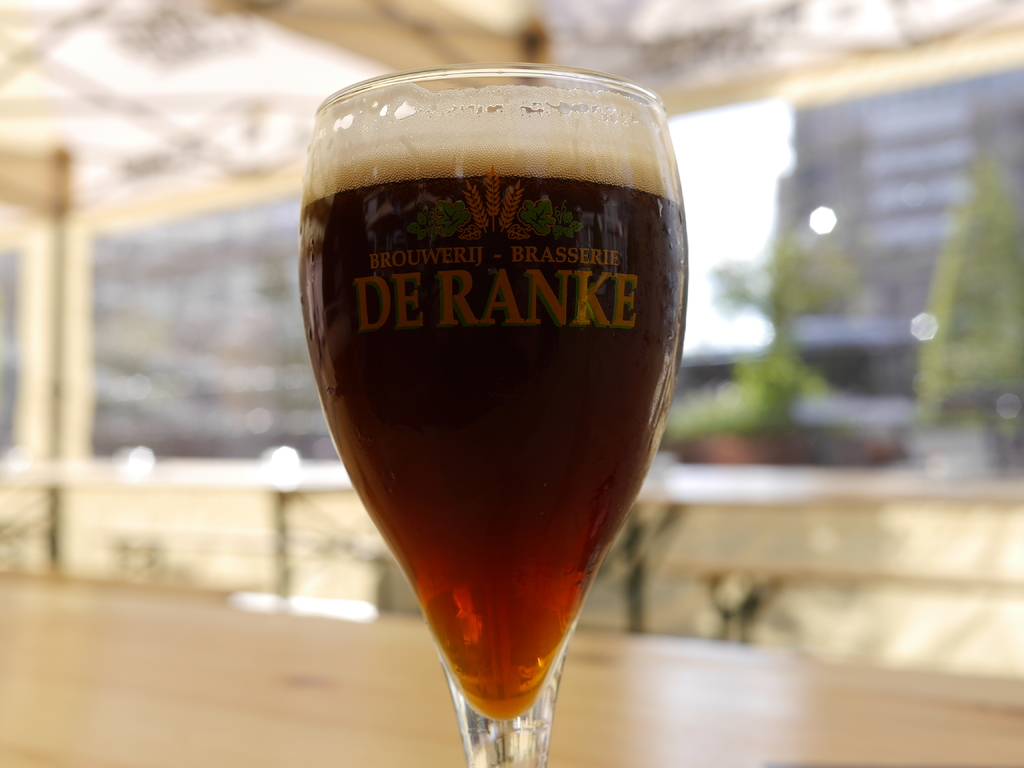Beer: (306, 137, 683, 717)
